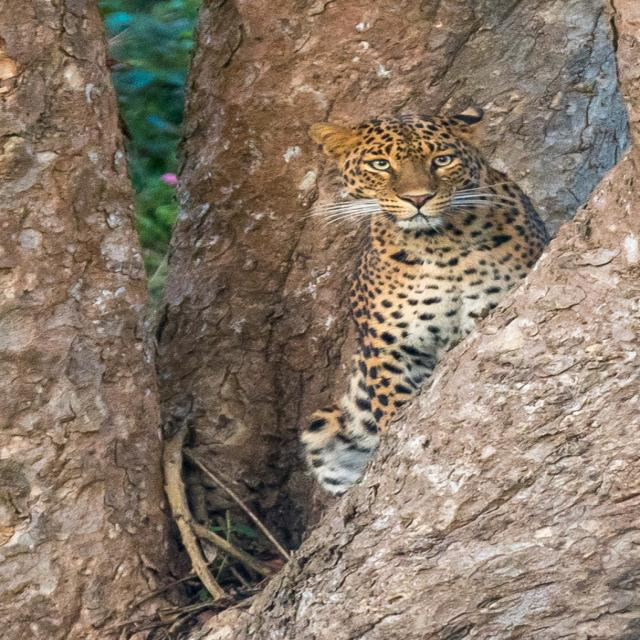Leopard: (302, 112, 552, 493)
